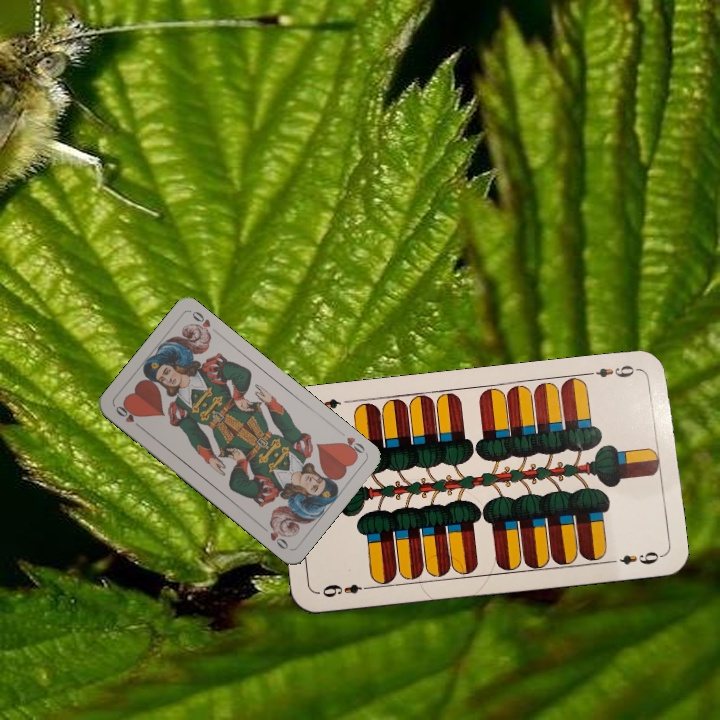E9: (583, 361, 643, 381), (318, 579, 374, 600)
HO: (334, 426, 368, 460), (111, 401, 146, 432)
